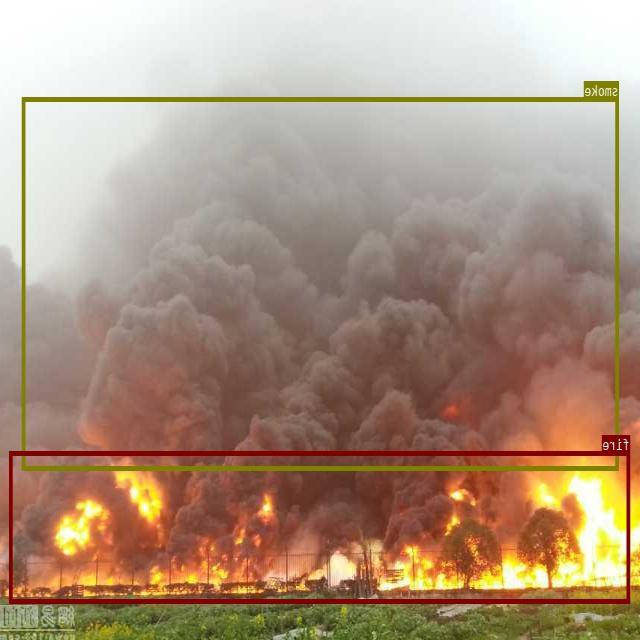fire: (10, 451, 630, 603)
smoke: (22, 96, 620, 470)
